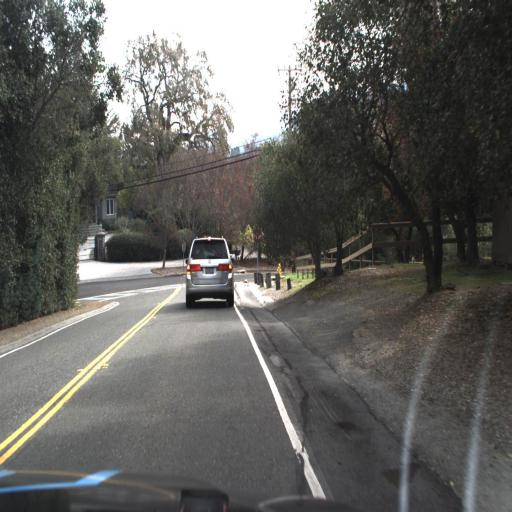car: (185, 232, 233, 307)
